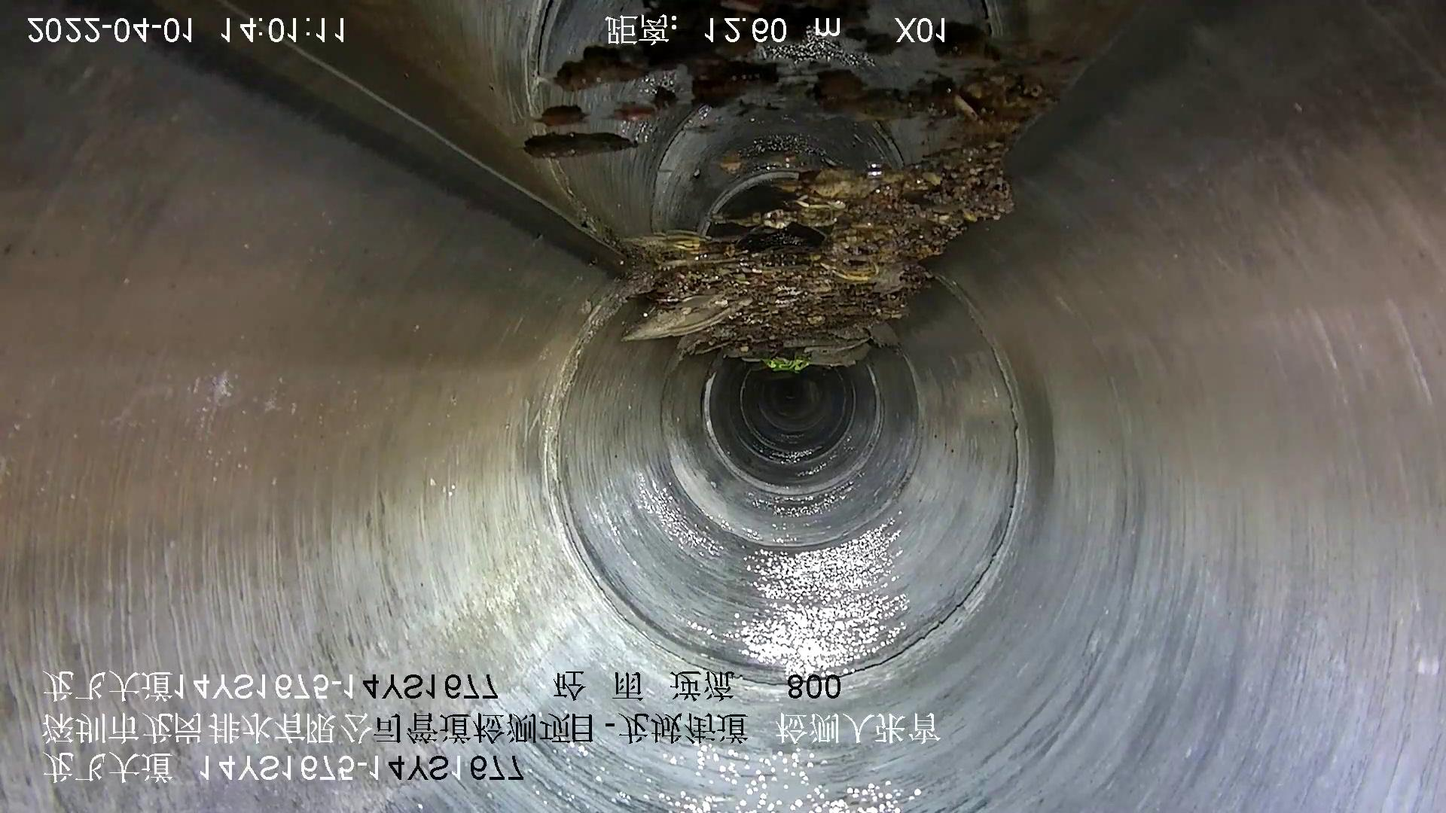CJ: (624, 142, 1011, 368), (525, 1, 1052, 159)
CKTJ: (541, 258, 1033, 695), (700, 343, 887, 500)
